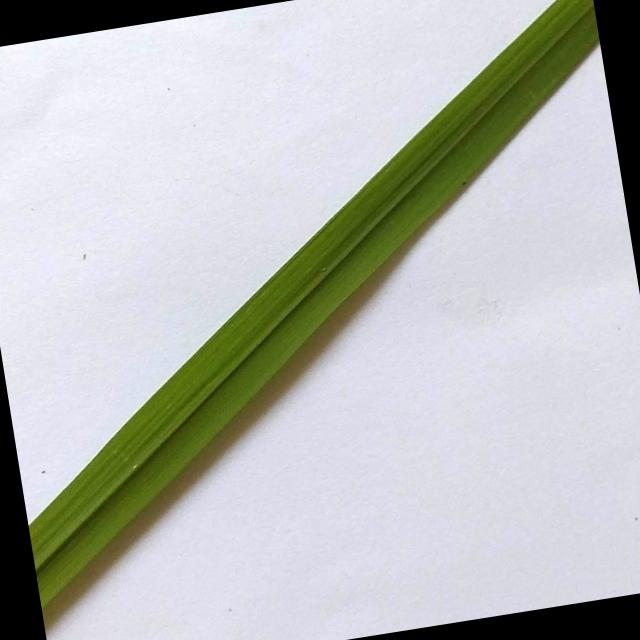Rice_Healthy: (29, 0, 599, 608)
